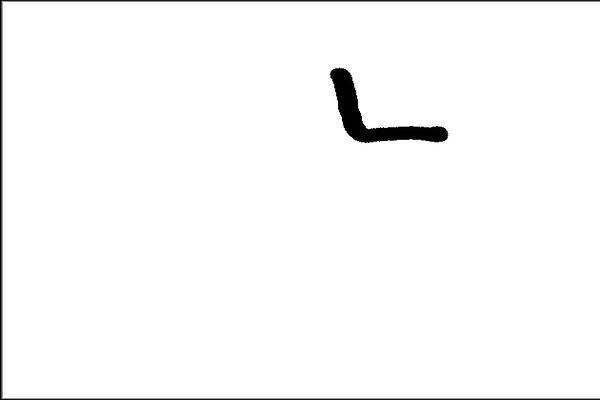L: (321, 55, 450, 151)
